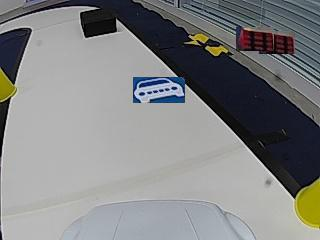block: (79, 8, 117, 37)
cone: (295, 178, 319, 227), (0, 67, 19, 103)
